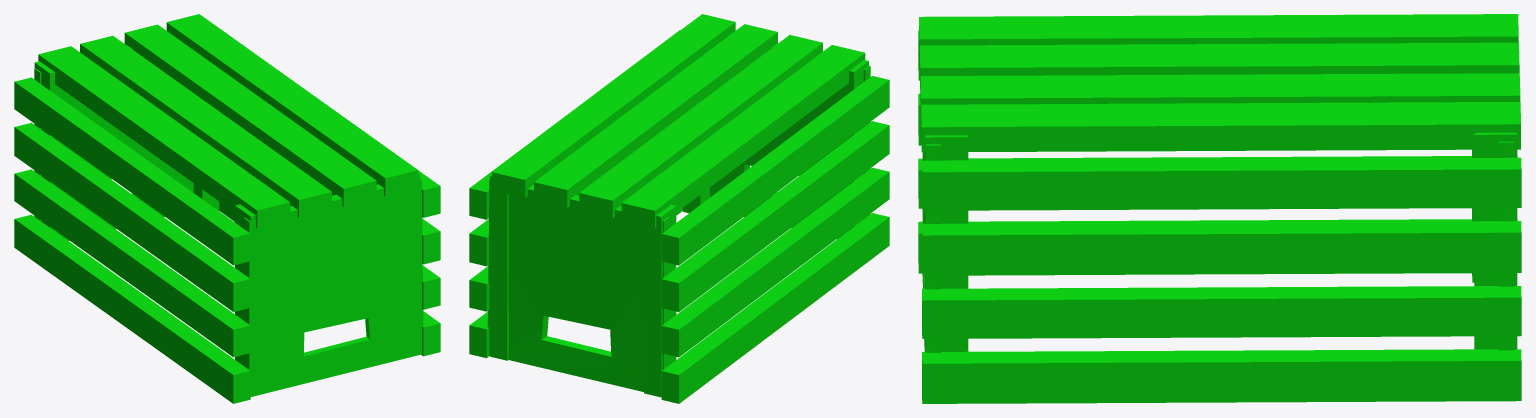
The model's file is CaixoteCozinha.fbx.
3 renders of one model, left to right at view 1: azimuth 30°, elevation 25°; view 2: azimuth 150°, elevation 25°; view 3: azimuth 270°, elevation 25°, orthographic. The views are drawn at different scales.
Parts seen in each view (by area): view 1: Cube.001; view 2: Cube.001; view 3: Cube.001.
Boxes of the visible parts, x1=… form: Cube.001: x1=14, y1=14, x2=440, y2=403; Cube.001: x1=469, y1=14, x2=889, y2=403; Cube.001: x1=918, y1=14, x2=1521, y2=403.
Size of the model in its own units: 379 by 319 by 667.
